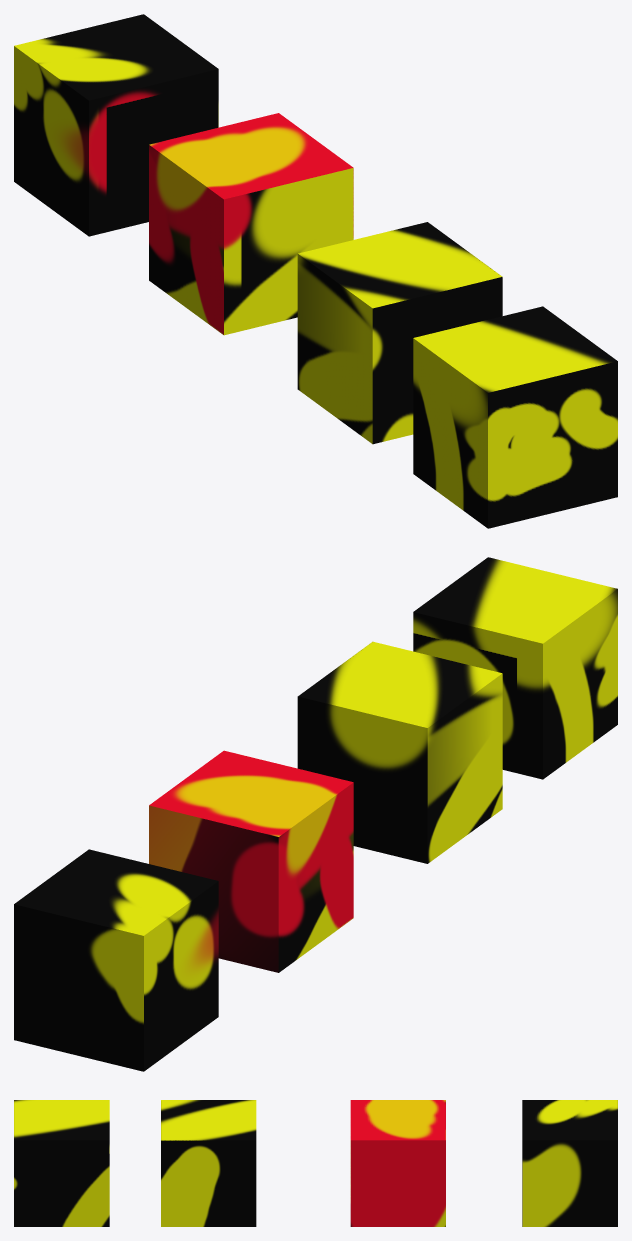
3 views of the same model, one above another, from view 1: azimuth 30°, elevation 25°; view 2: azimuth 150°, elevation 25°; view 3: azimuth 270°, elevation 25° (orthographic). The views are drawn at different scales.
Visible parts, largest first — view 1: Cube.003; view 2: Cube.003; view 3: Cube.003.
Boxes of the visible parts, x1,y1,x2,y2 form: Cube.003: (14,14,617,528); Cube.003: (14,557,617,1071); Cube.003: (14,1100,617,1226).
Size of the model in its own units: 2 by 2 by 12.65.
1 material, 1 textured.
